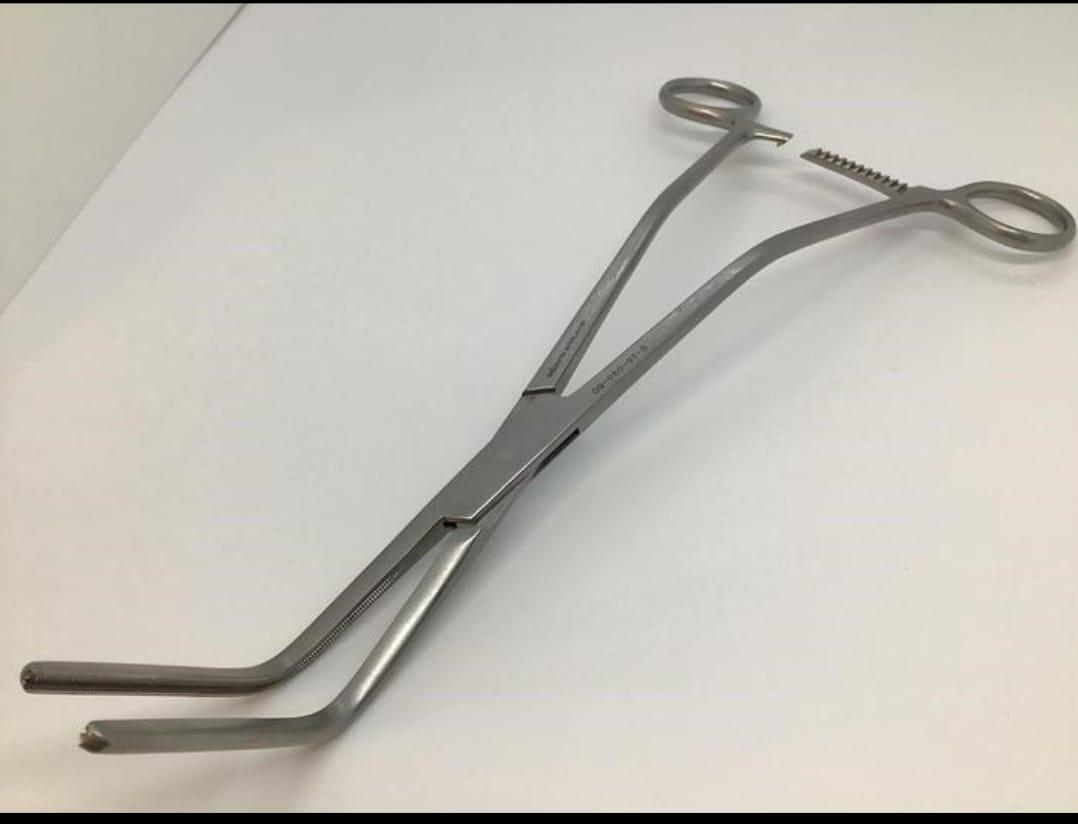Right Angle Colon Clamp: (14, 75, 1075, 758)
